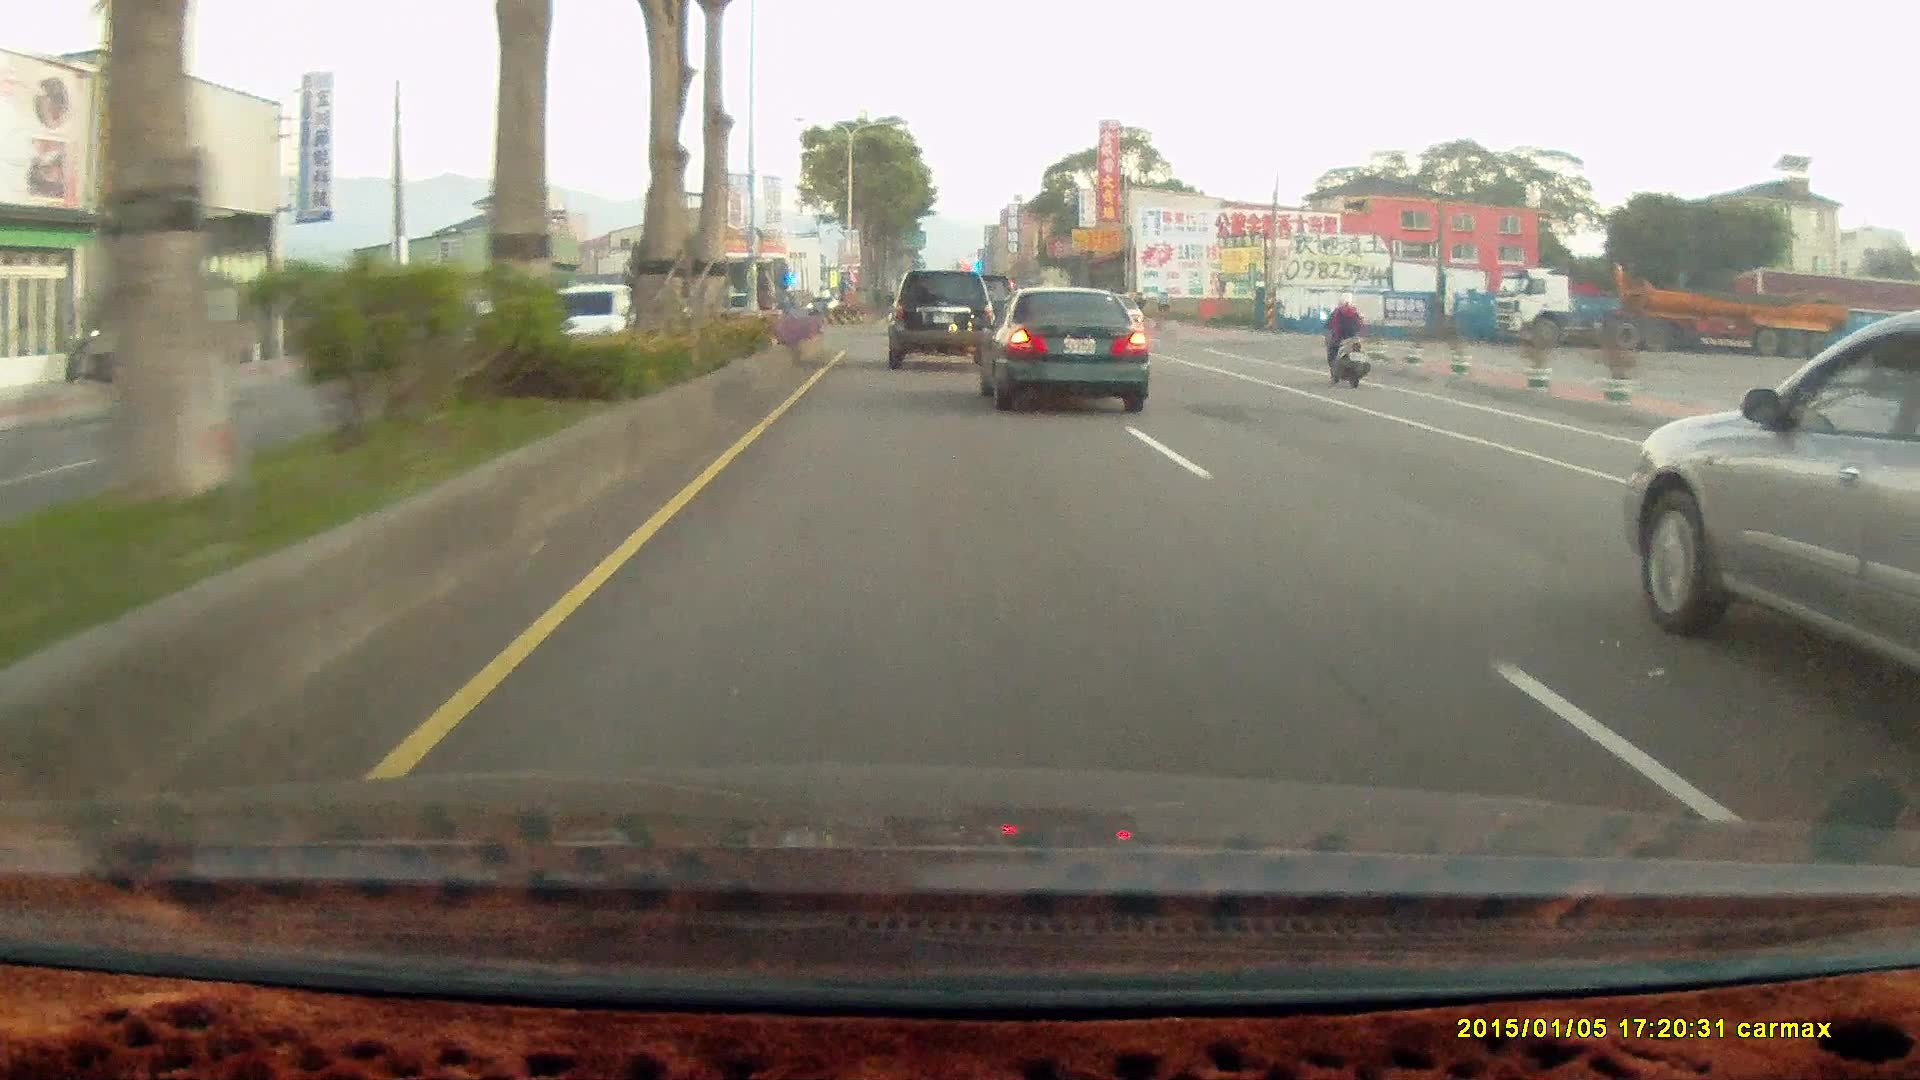rider: (1315, 288, 1377, 393), (1315, 291, 1371, 387)
vehicle: (1635, 305, 1920, 699), (1490, 265, 1846, 357), (973, 282, 1149, 410), (978, 288, 1149, 410), (888, 265, 998, 368), (881, 272, 991, 373), (531, 281, 643, 362)
